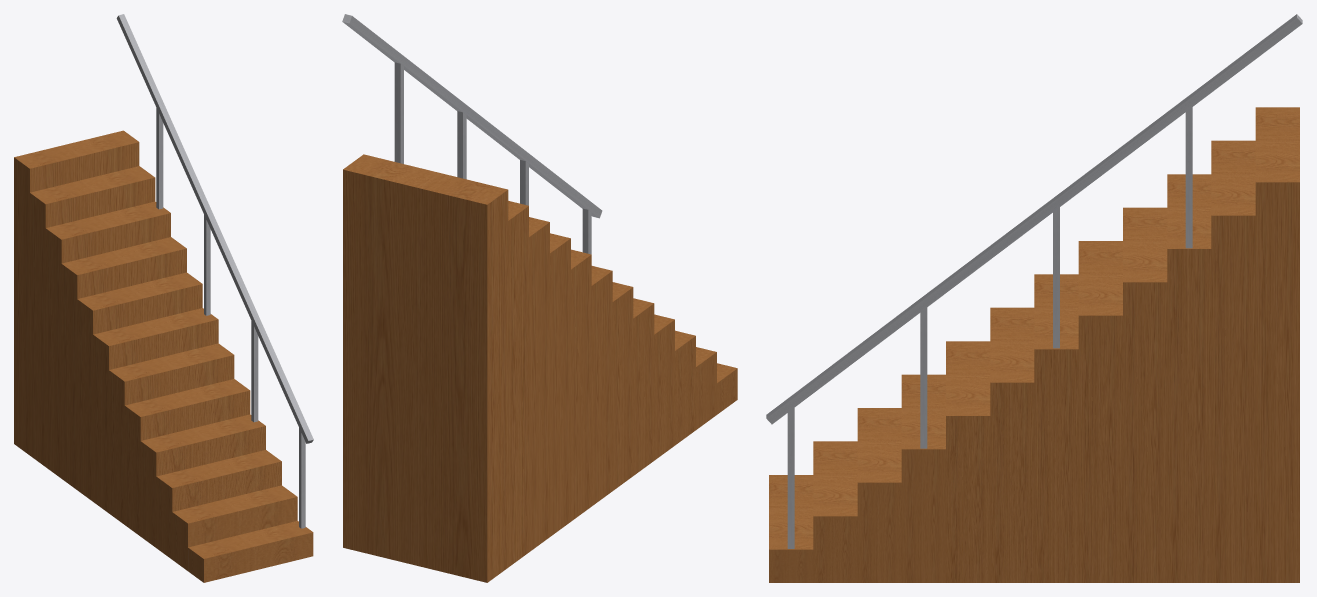
The model's file is Stairs_Interior.fbx.
3 views of the same model, side by side, from view 1: azimuth 30°, elevation 25°; view 2: azimuth 150°, elevation 25°; view 3: azimuth 270°, elevation 25° (orthographic). The views are drawn at different scales.
Parts seen in each view (by area): view 1: Stairs_Interior; view 2: Stairs_Interior; view 3: Stairs_Interior.
Part boxes in pixels (x1,y1,x2,y2): Stairs_Interior: [14, 14, 313, 582]; Stairs_Interior: [342, 14, 737, 582]; Stairs_Interior: [766, 14, 1302, 582].
Bounding box in the file's own units: 1 × 3.52 × 3.03.
